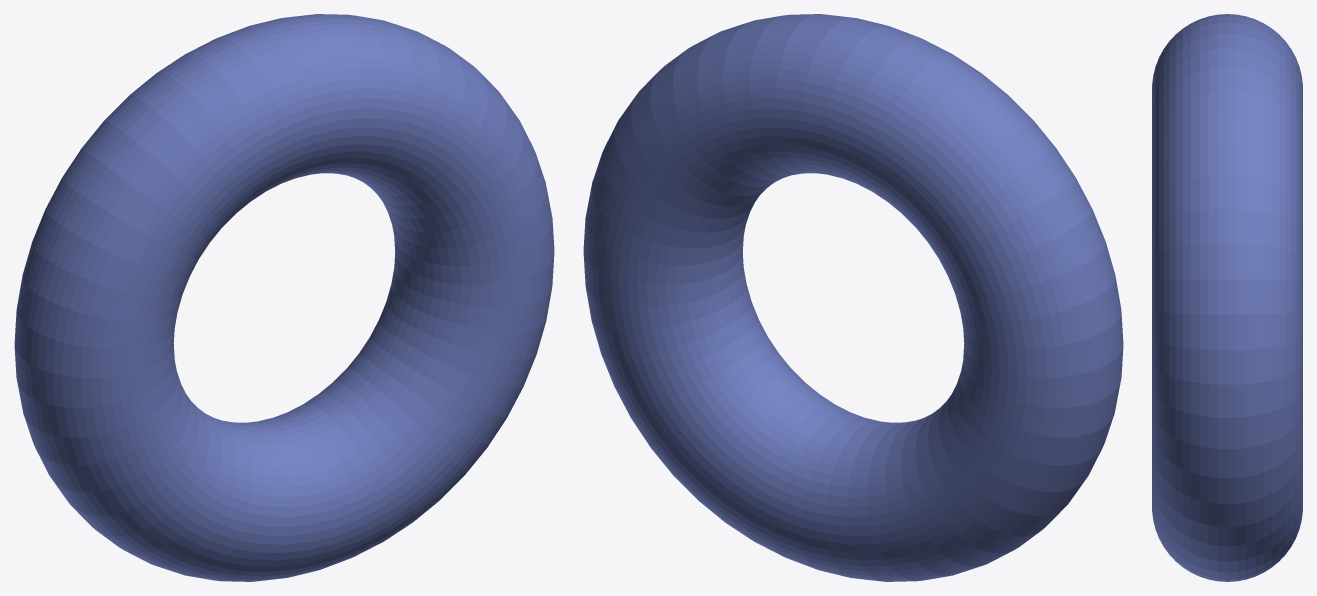
3 renders of one model, left to right at view 1: azimuth 30°, elevation 25°; view 2: azimuth 150°, elevation 25°; view 3: azimuth 270°, elevation 25°, orthographic. The views are drawn at different scales.
Parts seen in each view (by area): view 1: world; view 2: world; view 3: world.
Boxes of the visible parts, x1,y1,x2,y2 form: world: [14, 14, 554, 581]; world: [583, 14, 1123, 581]; world: [1152, 14, 1302, 581].
Size of the model in its own units: 14.53 by 14.5 by 3.86.
